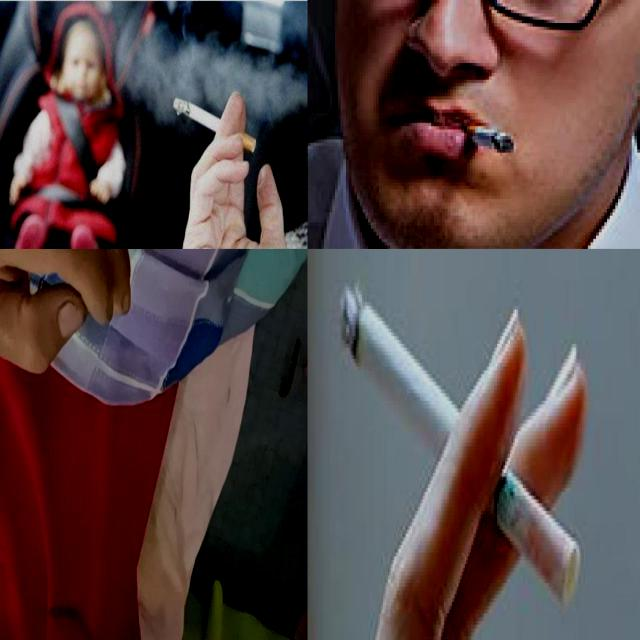cigarette: (338, 280, 586, 610), (174, 98, 256, 154), (465, 124, 515, 154)
